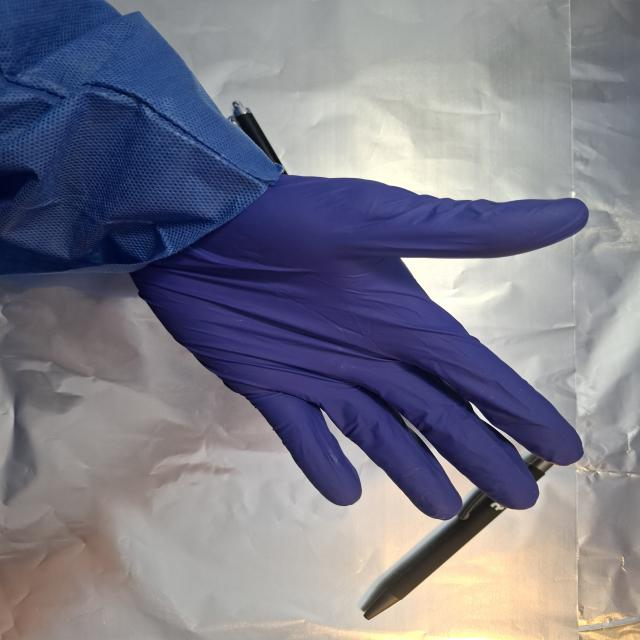glove_on: (128, 172, 592, 522)
